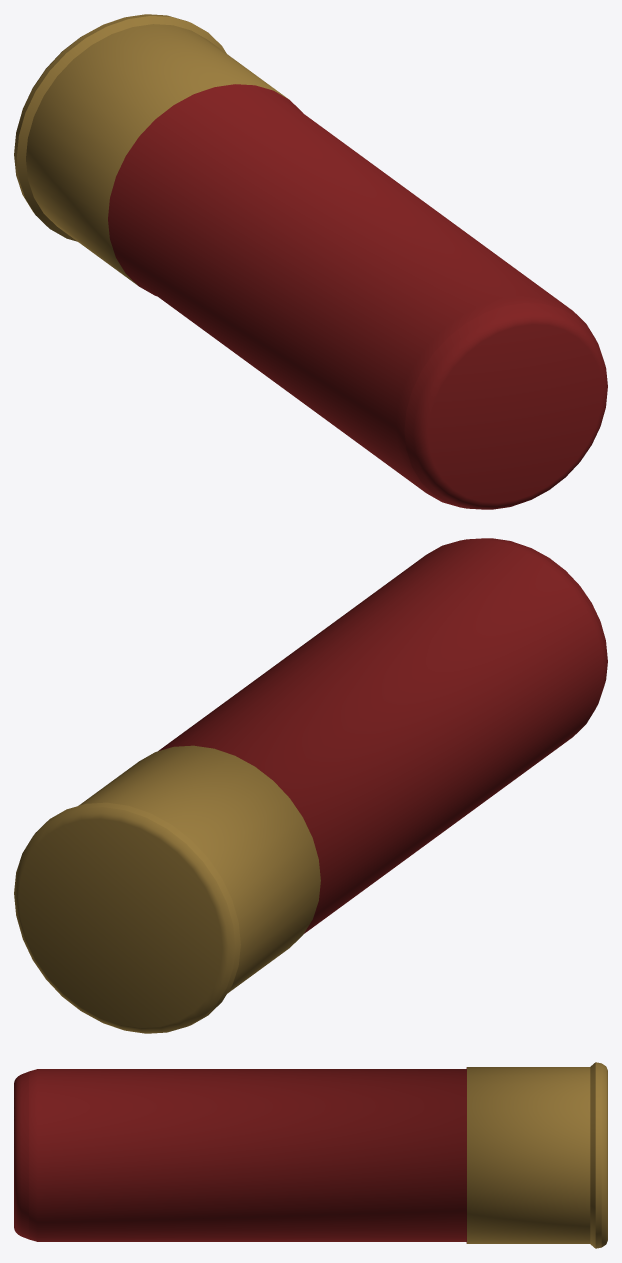
Rendered from shotGunAmmoModelFBX.fbx.
The picture shows the model from 3 angles, top to bottom: view 1: azimuth 30°, elevation 25°; view 2: azimuth 150°, elevation 25°; view 3: azimuth 270°, elevation 25°; orthographic projection. The views are drawn at different scales.
Visible parts, largest first — view 1: ammo; view 2: ammo; view 3: ammo.
Part boxes in pixels (<box>): ammo: <box>14,14,607,509</box>; ammo: <box>14,538,607,1033</box>; ammo: <box>14,1062,607,1248</box>.
Bounding box in the file's own units: 1.5 × 1.42 × 4.57.
